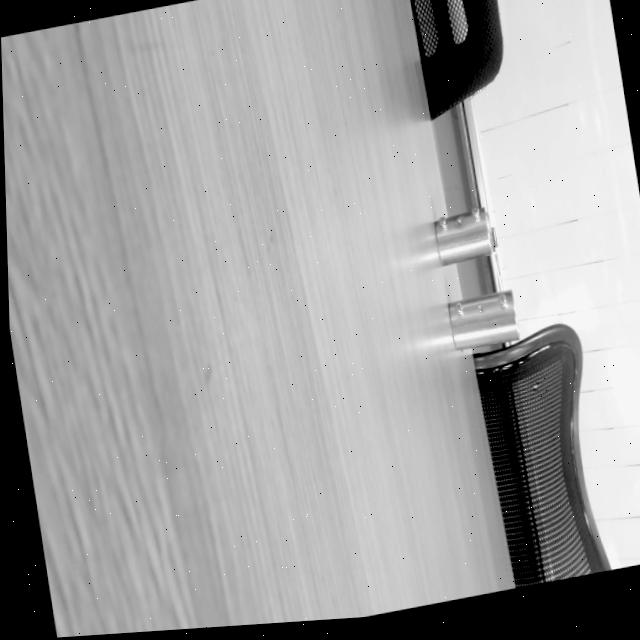Co_Lon: (445, 289, 519, 351)
Co_Nho: (430, 206, 498, 266)
